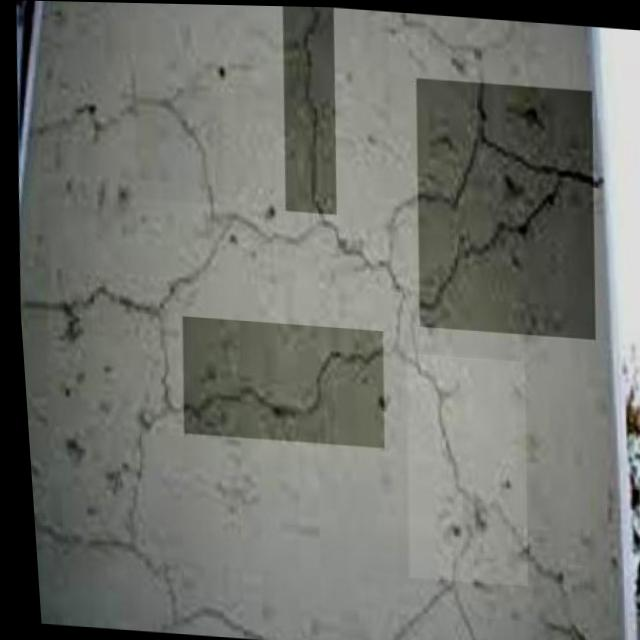Crack: (379, 68, 597, 347), (406, 365, 548, 640), (129, 309, 370, 434), (16, 66, 207, 194), (26, 497, 155, 584), (24, 278, 135, 367)
